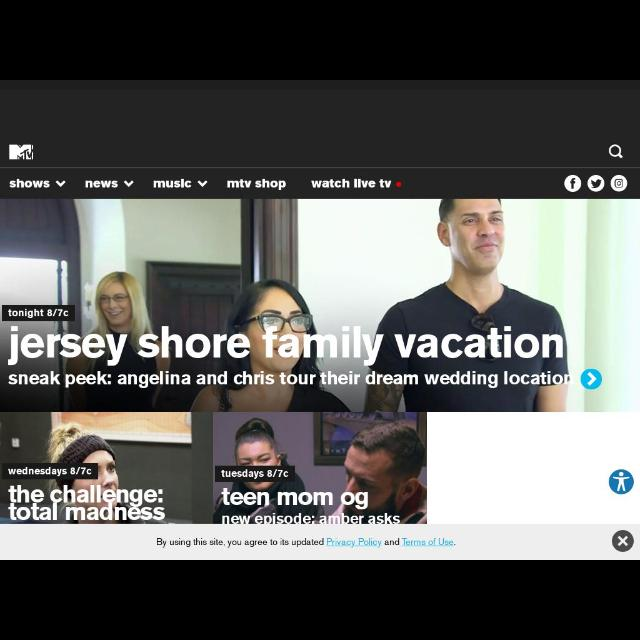button: (612, 532, 632, 550)
icon: (562, 175, 582, 191), (608, 144, 626, 158), (610, 176, 628, 190), (590, 176, 604, 190), (618, 535, 628, 547), (124, 178, 134, 188), (56, 179, 68, 187), (197, 179, 207, 187)
image: (1, 198, 639, 414), (214, 413, 426, 525), (2, 413, 214, 522), (610, 470, 634, 494), (8, 141, 36, 161)
link: (326, 536, 382, 548), (402, 537, 456, 549)
multitab: (2, 167, 640, 197)
spinner: (84, 177, 138, 191), (6, 178, 68, 190), (153, 179, 209, 191)
text: (156, 537, 458, 549), (312, 178, 391, 190), (226, 180, 288, 190), (8, 180, 49, 190), (150, 180, 192, 188), (84, 179, 118, 187)
